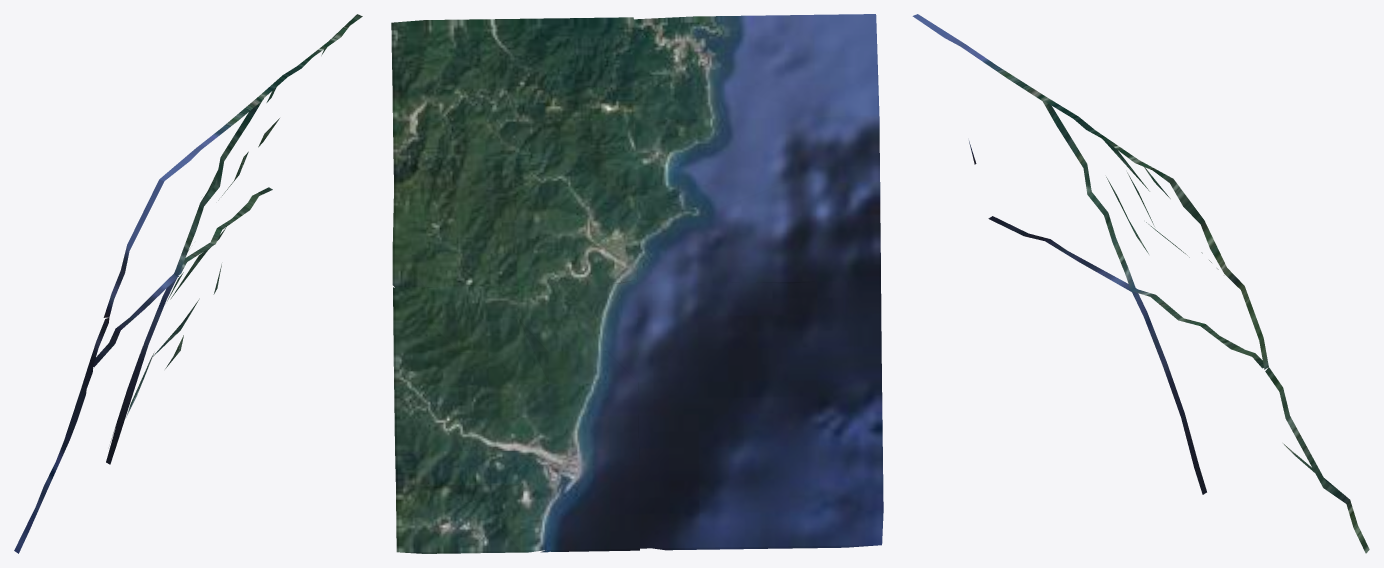
3 renders of one model, left to right at view 1: azimuth 30°, elevation 25°; view 2: azimuth 150°, elevation 25°; view 3: azimuth 270°, elevation 25°, orthographic. The views are drawn at different scales.
Size of the model in its own units: 37610 by 37462 by 34602.
1 material, 1 textured.
